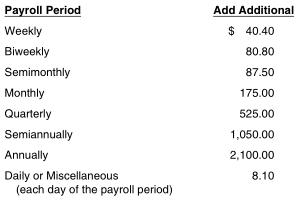table: (3, 4, 293, 194)
table column: (3, 4, 191, 194), (191, 4, 293, 194)
table column header: (3, 4, 293, 20)
table row: (3, 165, 293, 194), (3, 40, 293, 61), (3, 61, 293, 82), (3, 102, 293, 123), (3, 123, 293, 144), (3, 144, 293, 165), (3, 20, 293, 40), (3, 82, 293, 102), (3, 4, 293, 20)
